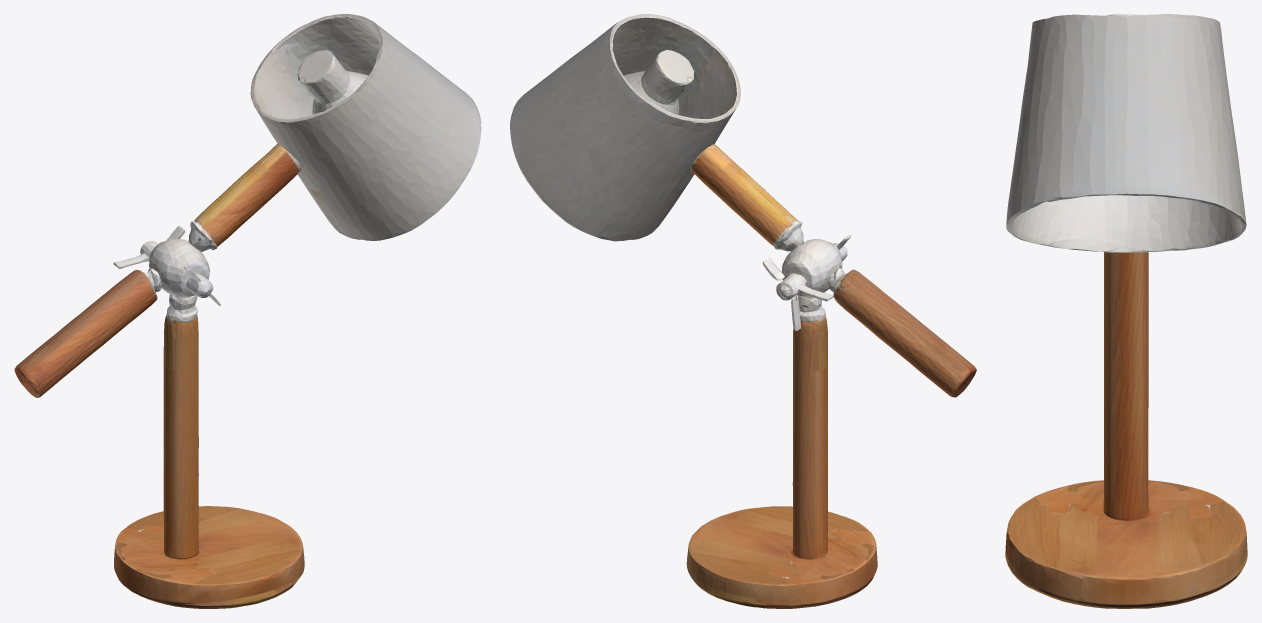
File: лампа_0531091130_texture.fbx
3 renders of one model, left to right at view 1: azimuth 30°, elevation 25°; view 2: azimuth 150°, elevation 25°; view 3: azimuth 270°, elevation 25°, orthographic. The views are drawn at different scales.
Visible parts, largest first — view 1: temp; view 2: temp; view 3: temp.
Part boxes in pixels (bbox=[...]): temp: bbox=[14, 14, 481, 608]; temp: bbox=[510, 14, 976, 608]; temp: bbox=[1005, 14, 1247, 608].
Size of the model in its own units: 184 by 200 by 68.02.
1 material, 1 textured.
